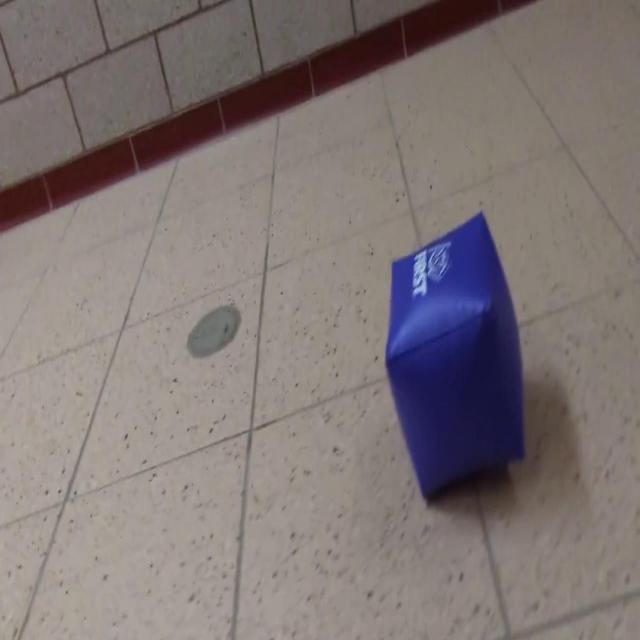frc_cube: (386, 210, 526, 504)
